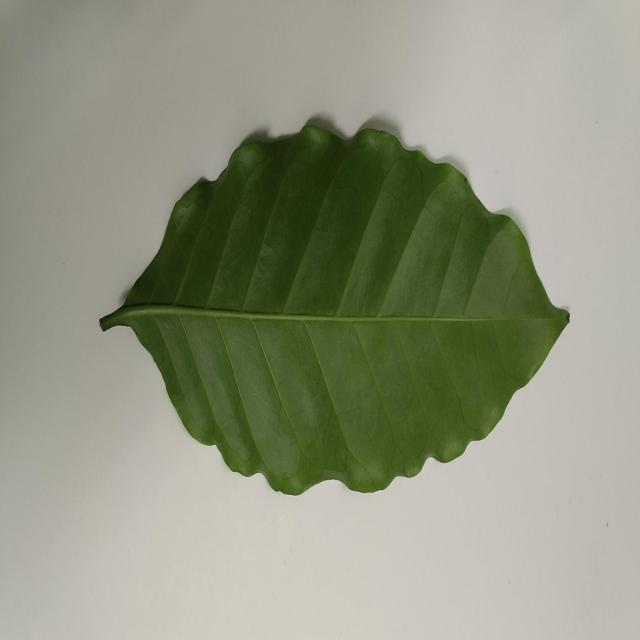Sanas: (97, 116, 571, 499)
